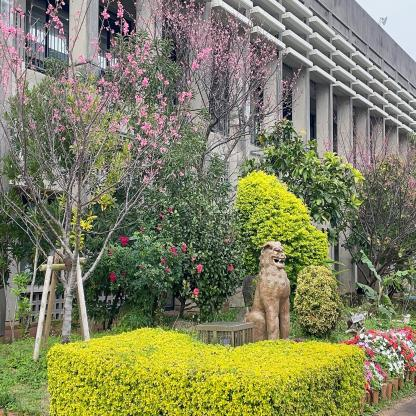KanhiSakura: (0, 0, 171, 256), (146, 1, 306, 190), (322, 111, 416, 262)
